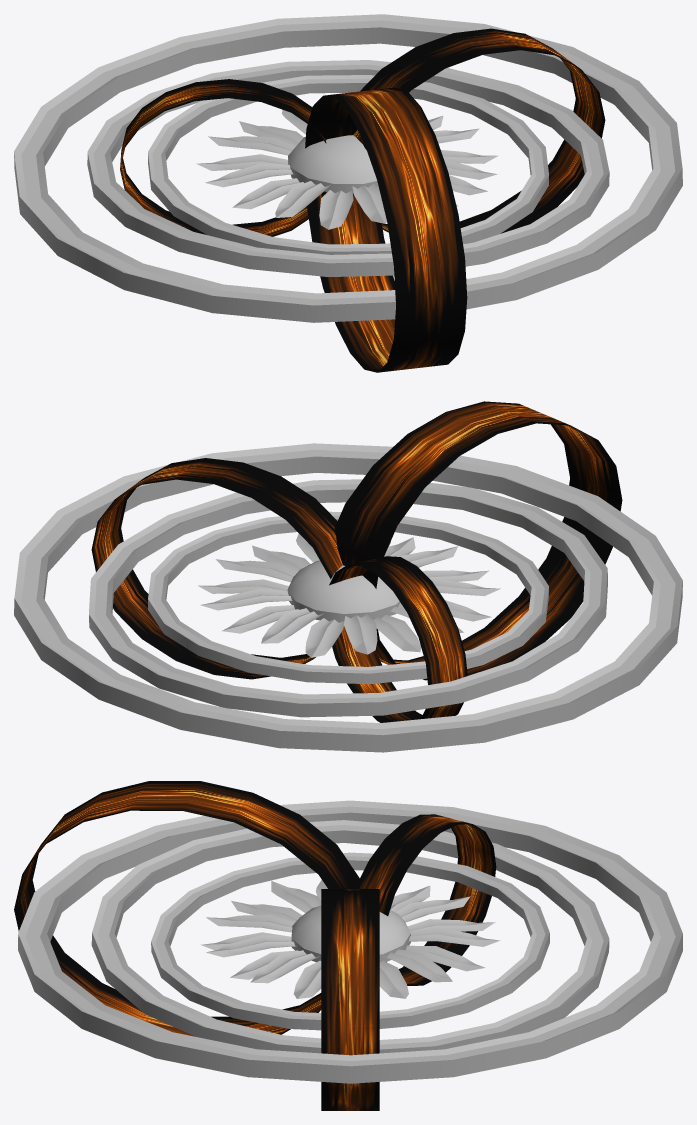
The model's file is WorldGear01_Art.fbx.
The picture shows the model from 3 angles, top to bottom: view 1: azimuth 30°, elevation 25°; view 2: azimuth 150°, elevation 25°; view 3: azimuth 270°, elevation 25°; orthographic projection.
Parts seen in each view (by area): view 1: Ring02_Art, SunflareWorldGear01_Art, SunFlower01_Art; view 2: Ring02_Art, SunflareWorldGear01_Art, SunFlower01_Art; view 3: Ring02_Art, SunflareWorldGear01_Art, SunFlower01_Art.
Boxes of the visible parts, x1=… form: Ring02_Art: x1=14, y1=14, x2=682, y2=322; SunflareWorldGear01_Art: x1=120, y1=28, x2=605, y2=372; SunFlower01_Art: x1=196, y1=110, x2=498, y2=229; Ring02_Art: x1=14, y1=443, x2=682, y2=752; SunflareWorldGear01_Art: x1=91, y1=401, x2=622, y2=722; SunFlower01_Art: x1=198, y1=533, x2=500, y2=657; Ring02_Art: x1=18, y1=800, x2=682, y2=1083; SunflareWorldGear01_Art: x1=14, y1=781, x2=496, y2=1110; SunFlower01_Art: x1=200, y1=880, x2=500, y2=998.
Bounding box in the file's own units: 105 × 41.17 × 106.
